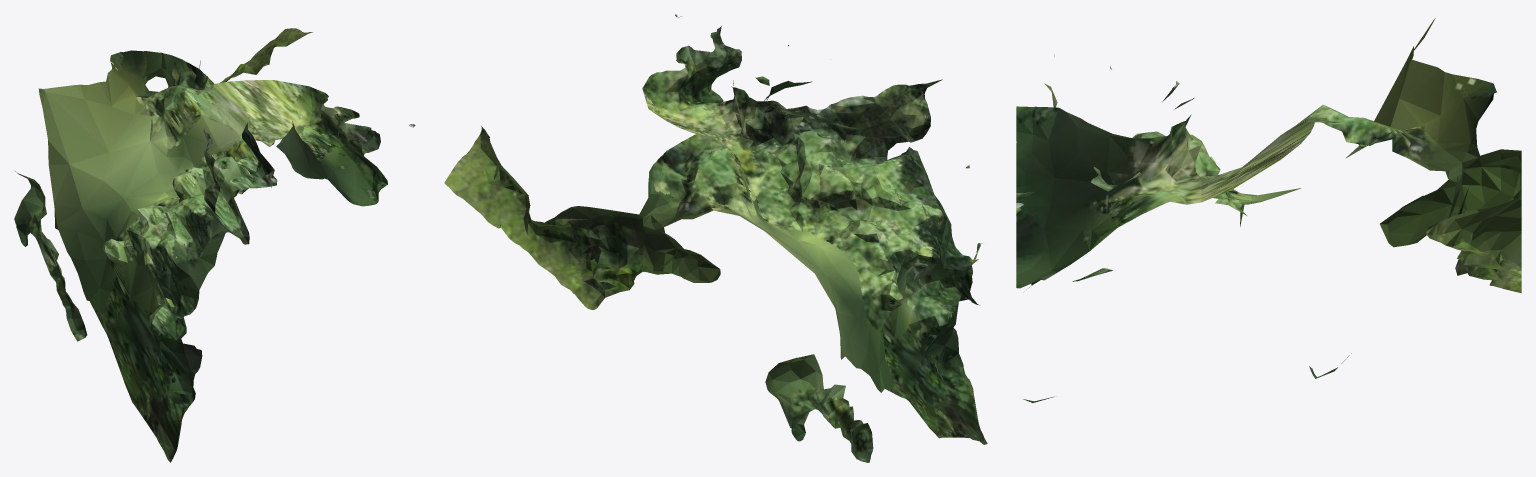
The picture shows the model from 3 angles, left to right: view 1: azimuth 30°, elevation 25°; view 2: azimuth 150°, elevation 25°; view 3: azimuth 270°, elevation 25°; orthographic projection. The views are drawn at different scales.
Size of the model in its own units: 26.11 by 25.61 by 26.11.
4 materials, 4 textured.
